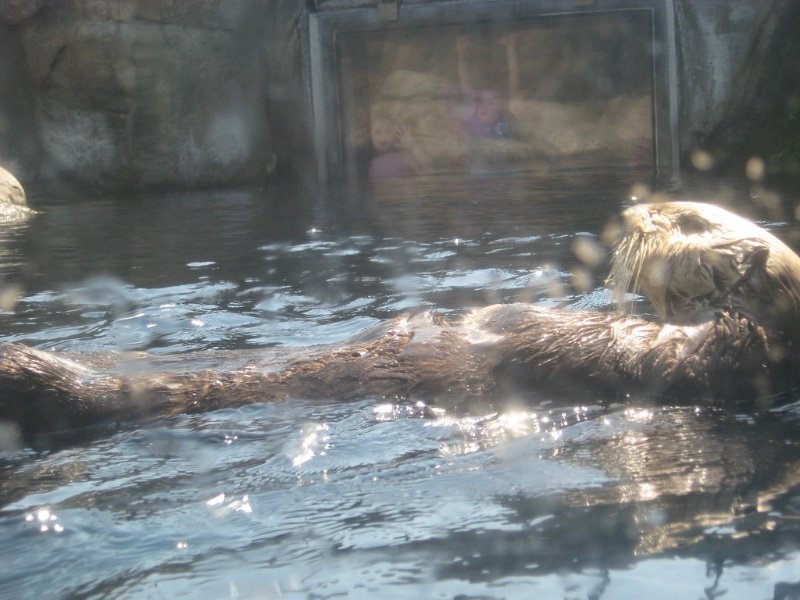minkish: (7, 194, 793, 458)
